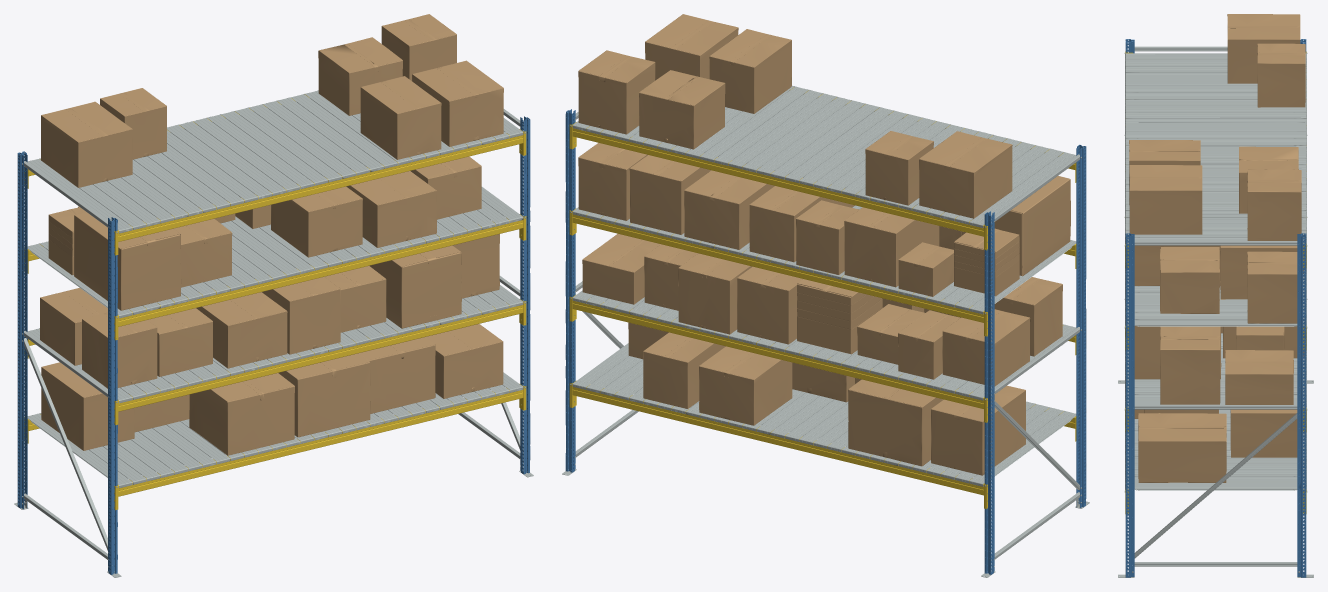
File: rack_composition_l10.glb
3 views of the same model, side by side, from view 1: azimuth 30°, elevation 25°; view 2: azimuth 150°, elevation 25°; view 3: azimuth 270°, elevation 25° (orthographic). The views are drawn at different scales.
Bounding box in the file's own units: 3.1 × 2.79 × 1.3.
